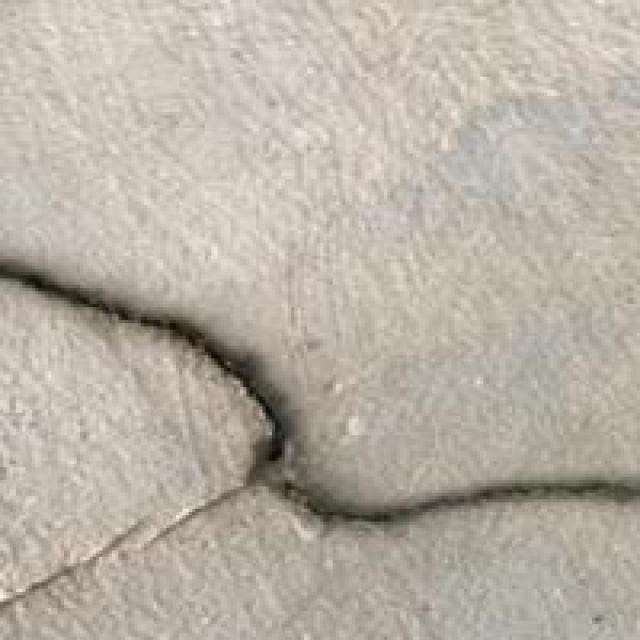crack: (0, 224, 637, 598)
